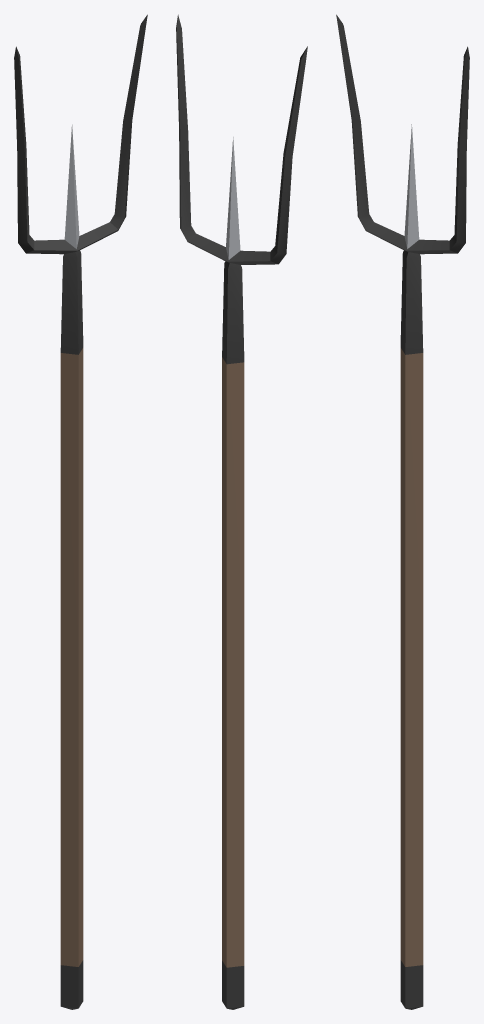
File: Spear_1.fbx
The picture shows the model from 3 angles, left to right: view 1: azimuth 30°, elevation 25°; view 2: azimuth 150°, elevation 25°; view 3: azimuth 330°, elevation 25°; orthographic projection.
Visible parts, largest first — view 1: polySurface217; view 2: polySurface217; view 3: polySurface217.
Part boxes in pixels (box(x1,y1,x2,y2)): polySurface217: box(14, 14, 147, 1009); polySurface217: box(176, 14, 307, 1009); polySurface217: box(336, 14, 469, 1009).
Bounding box in the file's own units: 69.67 × 498 × 15.36.
